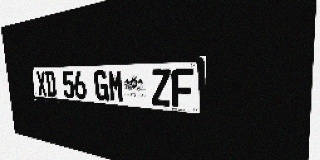5: (62, 71, 75, 98)
6: (73, 71, 87, 99)
D: (45, 71, 57, 97)
F: (171, 68, 194, 109)
G: (94, 70, 109, 101)
M: (108, 70, 124, 103)
X: (36, 71, 47, 96)
Z: (151, 69, 171, 107)
